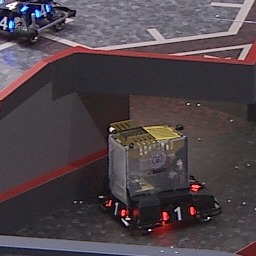Blue: (1, 1, 28, 15), (1, 14, 14, 33), (34, 4, 51, 18)
Red: (161, 204, 198, 223), (106, 199, 126, 219)
Robot: (92, 118, 224, 232), (1, 1, 78, 42)
